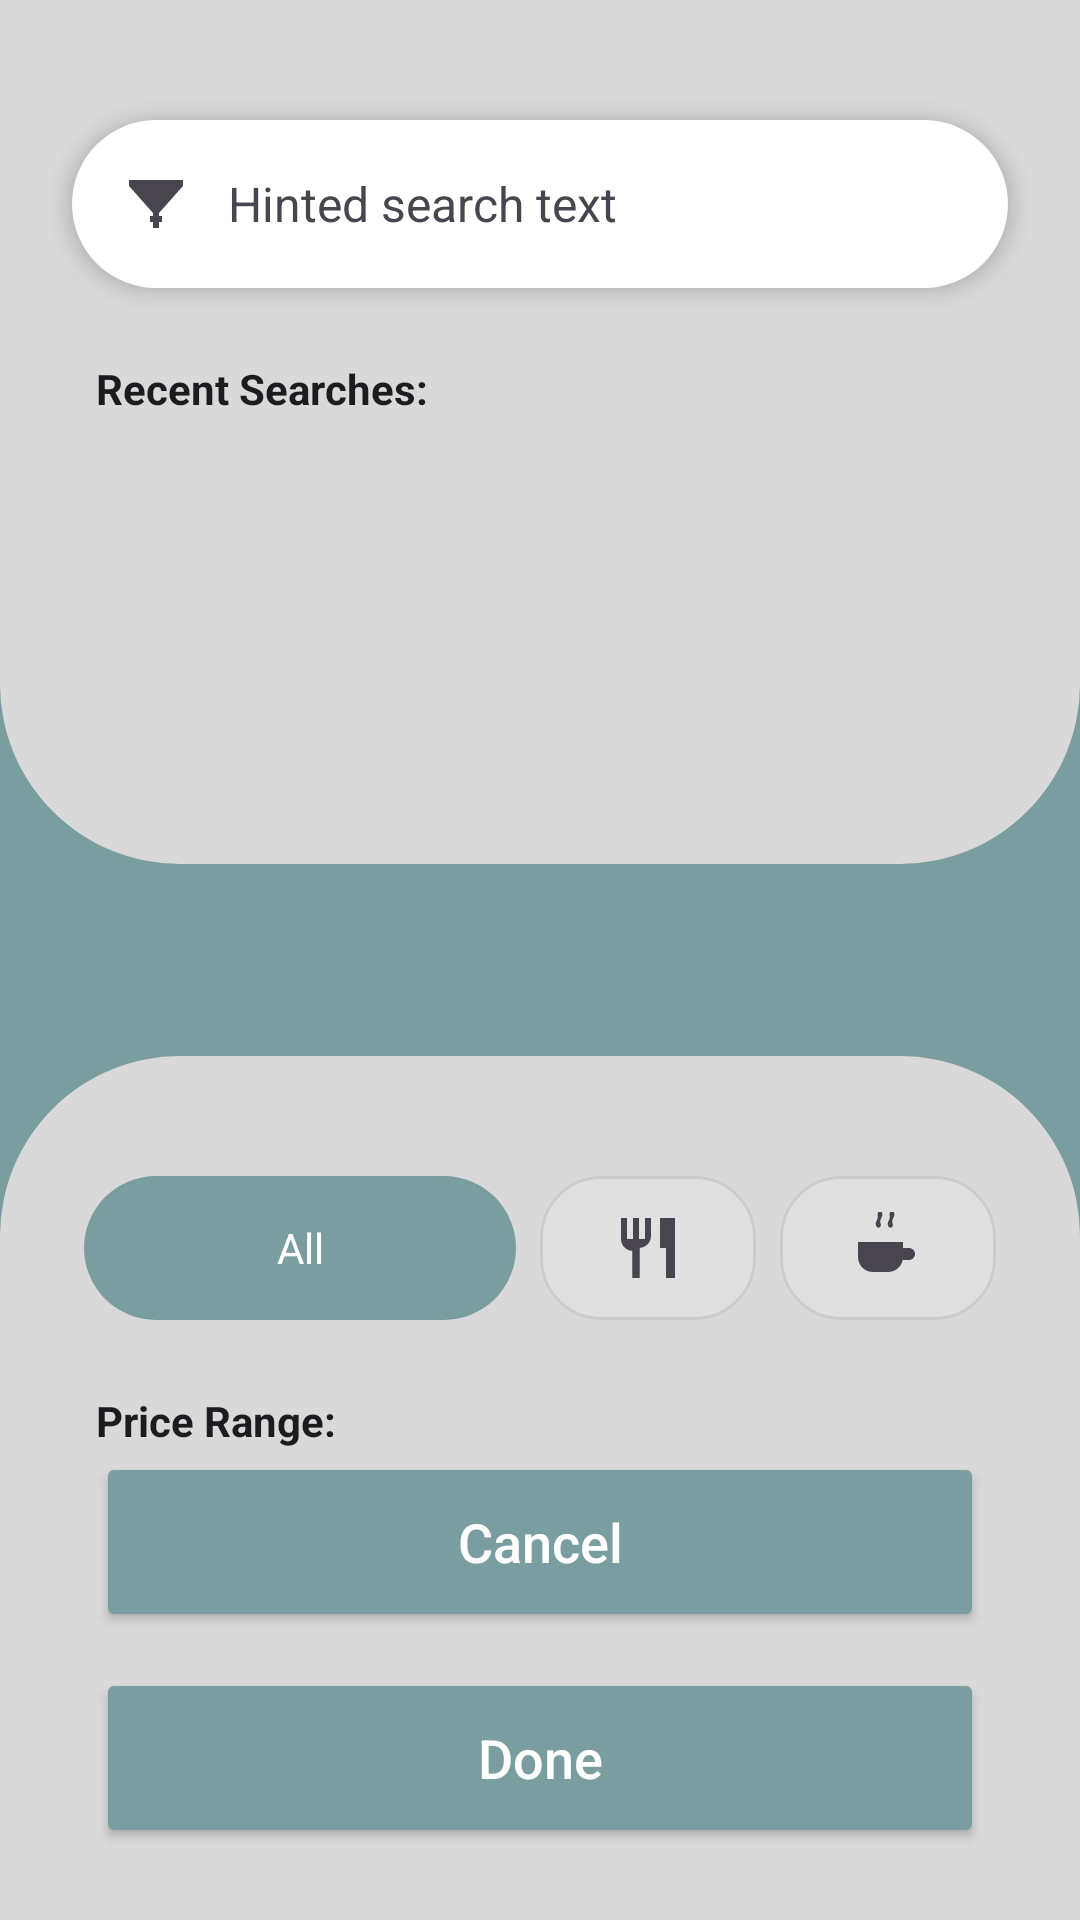

Point at icon controls on the screen. Image size 1080 x 1920, points as [x,y].
cafe: [886,1242]
filter: [156,204]
food: [648,1248]
